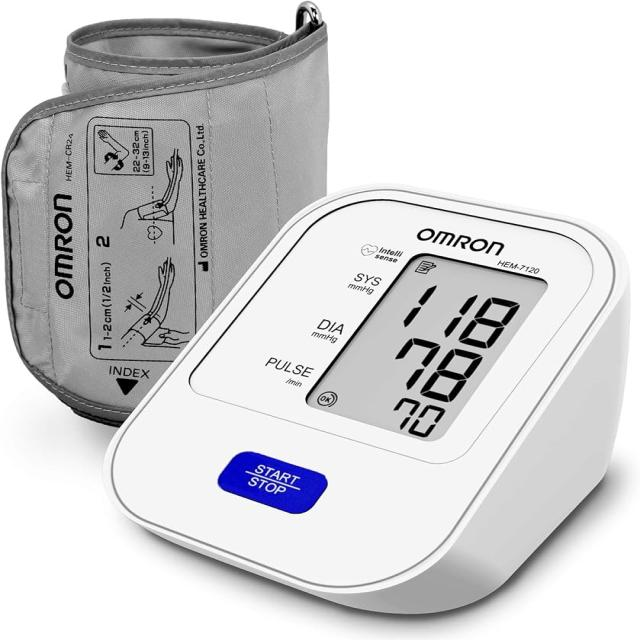dia: (361, 318, 491, 413)
pul: (367, 383, 457, 448)
ssd: (300, 204, 552, 481)
sys: (385, 270, 533, 360)
